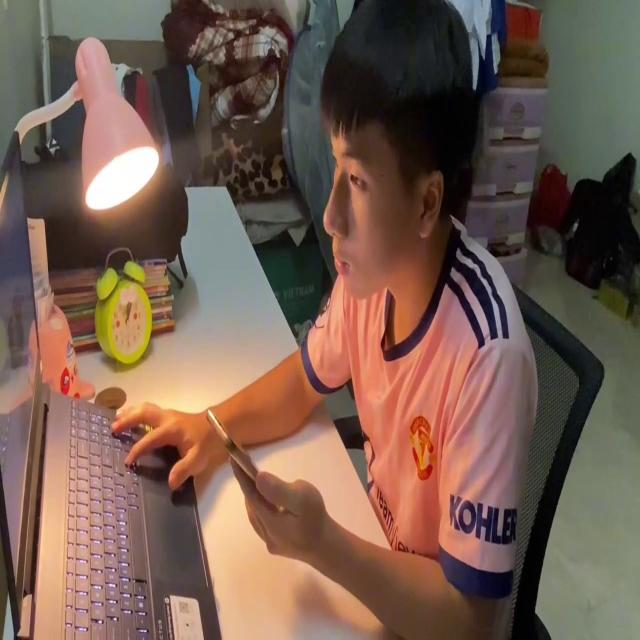laptop: (1, 126, 225, 640)
phone: (205, 398, 277, 512)
student: (111, 0, 535, 640)
